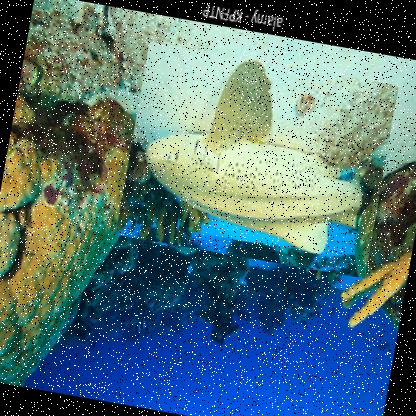zebra_shark: (114, 40, 398, 278)
